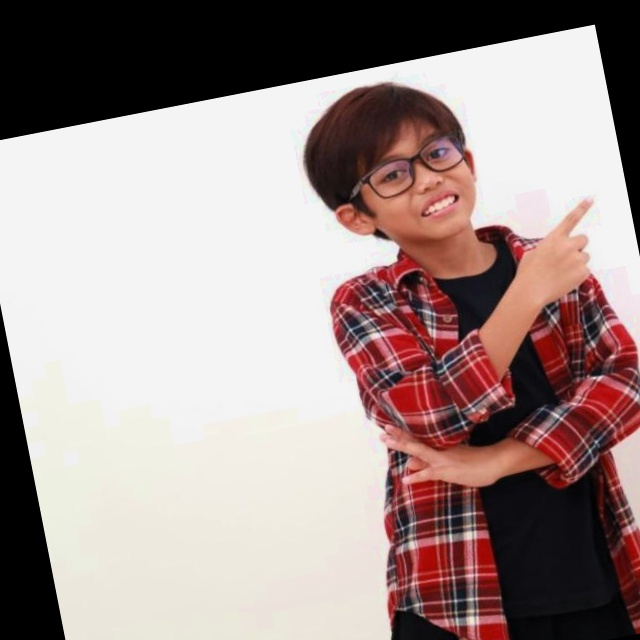Sin_Casco_Mascarrilla: (291, 68, 488, 266)
Sin_Chaleco: (322, 216, 640, 630)
